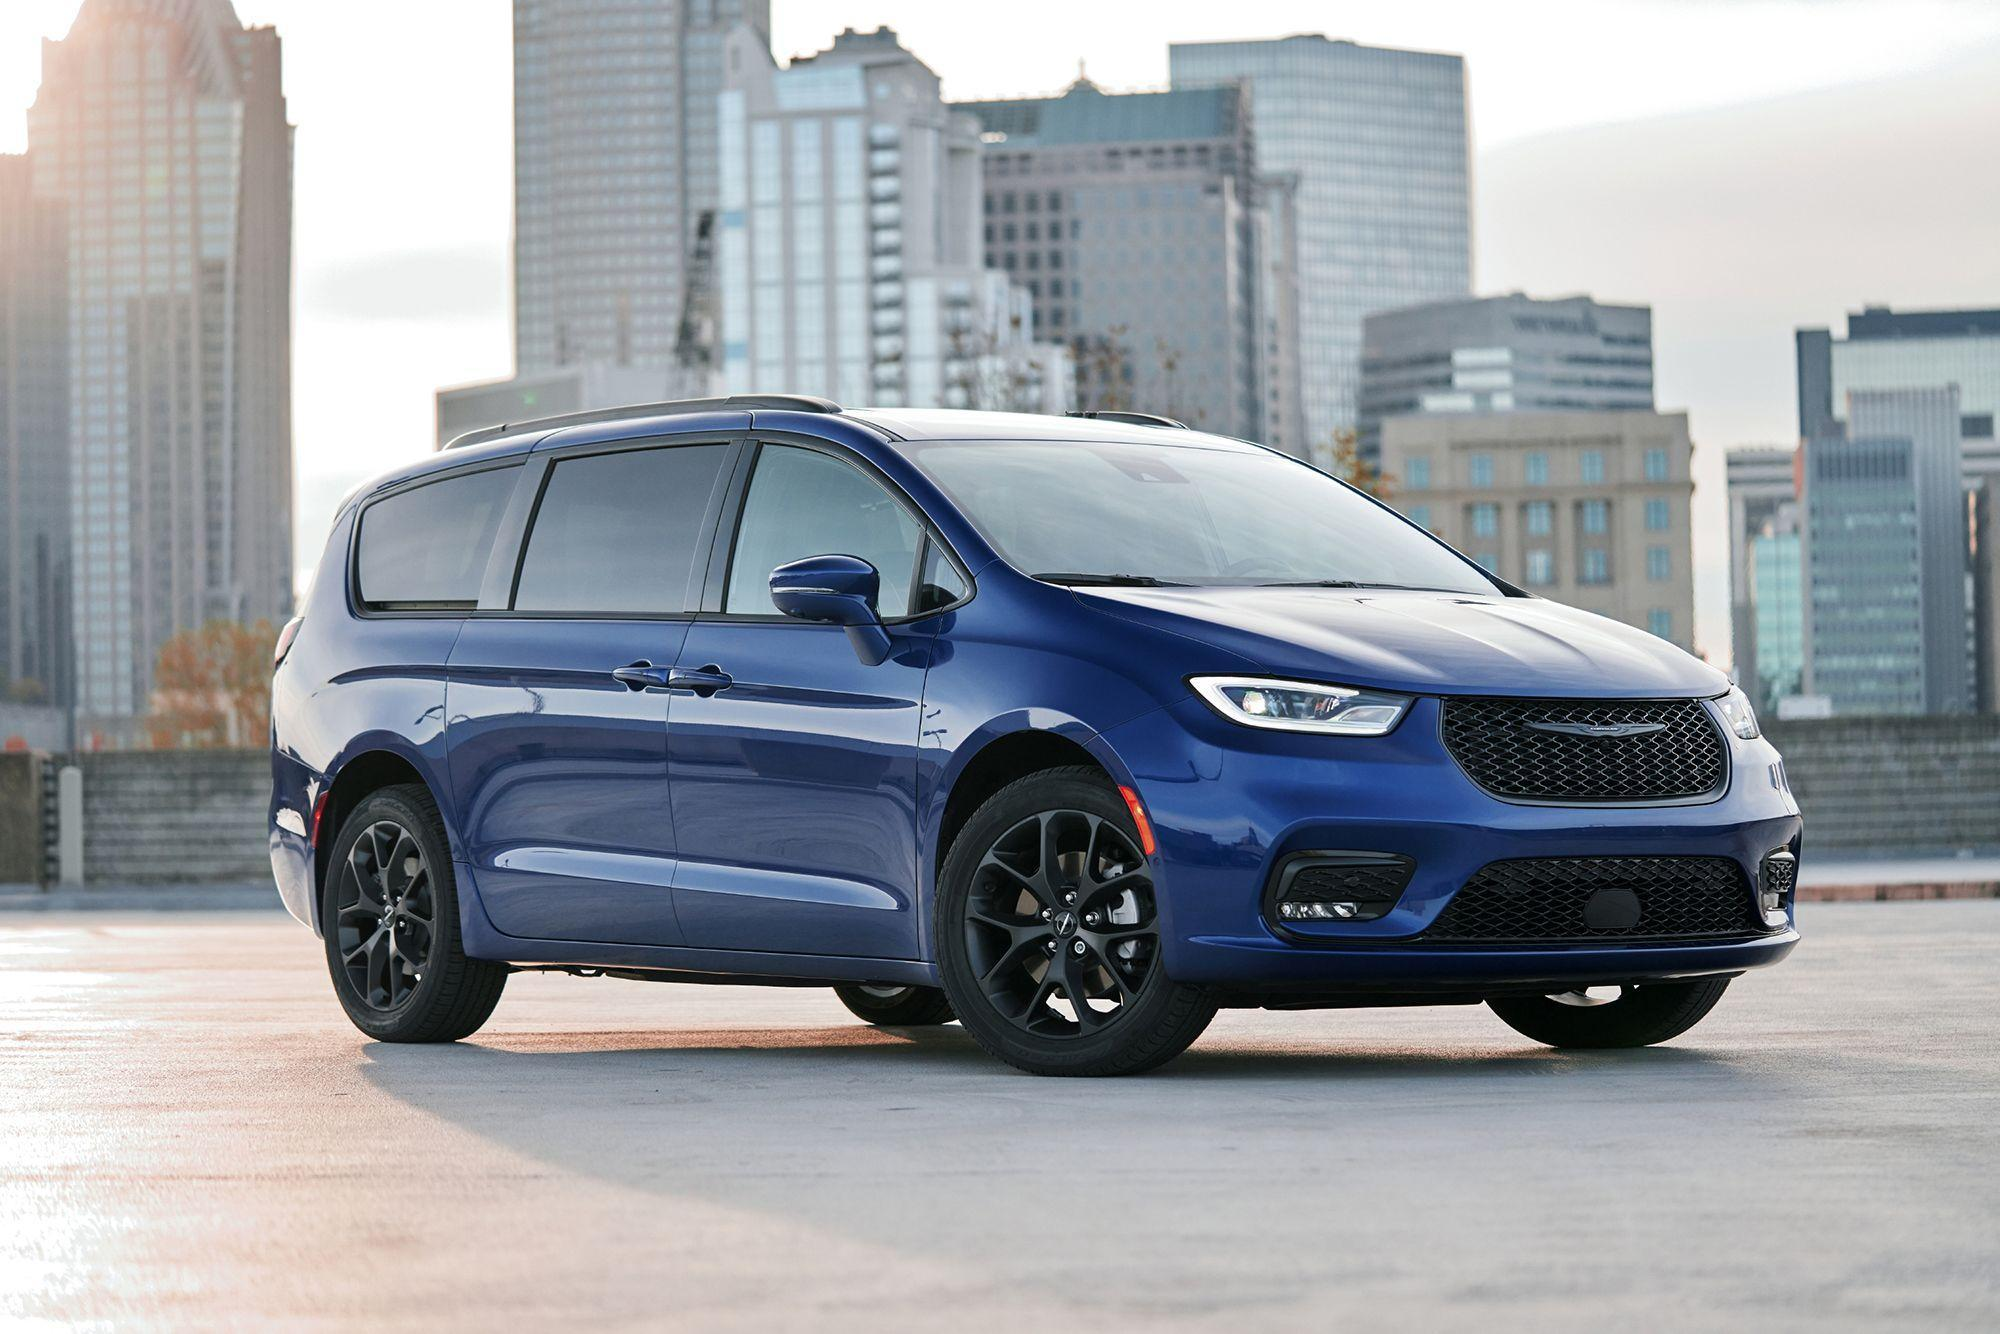Minivan: (266, 396, 1802, 1075)
